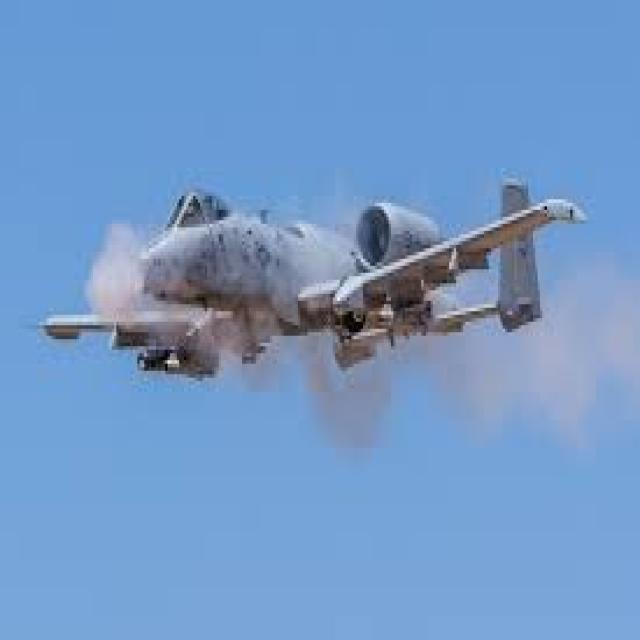A10: (26, 124, 601, 381)
